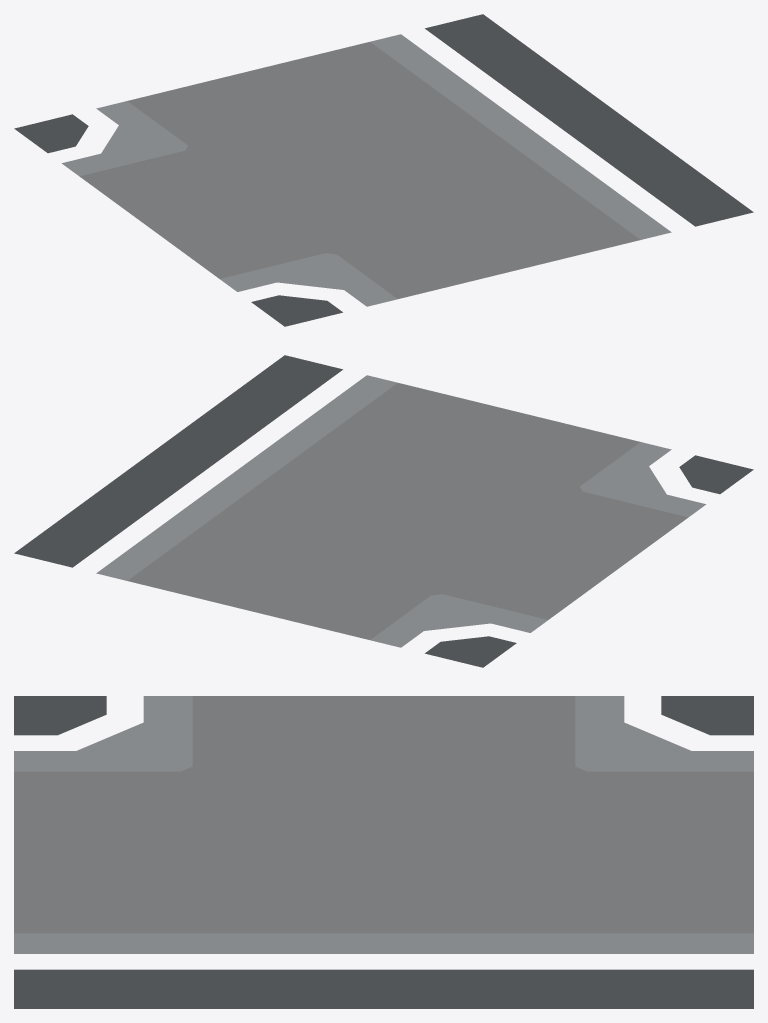
Rendered from Ceiling_type_B_052_012.glb.
The picture shows the model from 3 angles, top to bottom: view 1: azimuth 30°, elevation 25°; view 2: azimuth 150°, elevation 25°; view 3: azimuth 270°, elevation 25°; orthographic projection. The views are drawn at different scales.
Visible parts, largest first — view 1: Ceiling_type_B_052.012; view 2: Ceiling_type_B_052.012; view 3: Ceiling_type_B_052.012.
Boxes of the visible parts, x1,y1,x2,y2 form: Ceiling_type_B_052.012: (14, 14, 753, 326); Ceiling_type_B_052.012: (14, 355, 753, 667); Ceiling_type_B_052.012: (14, 696, 753, 1008).
Size of the model in its own units: 4 by 0.035 by 4.
2 materials, 2 textured.
